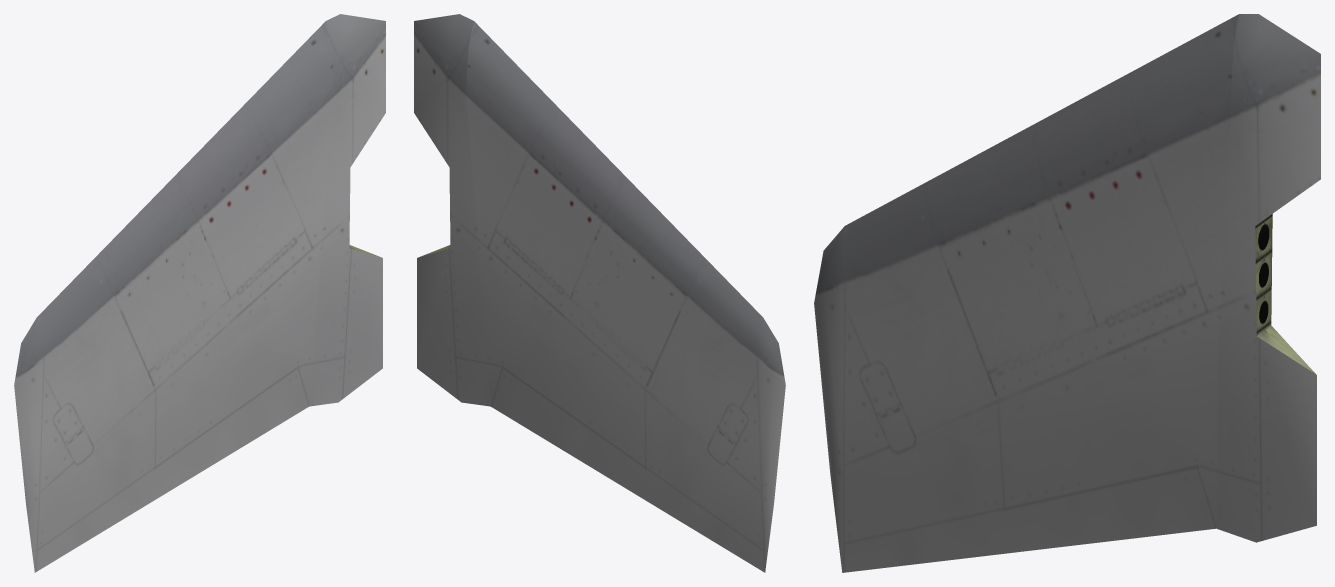
The model's file is winglet.DAE.
3 views of the same model, side by side, from view 1: azimuth 30°, elevation 25°; view 2: azimuth 150°, elevation 25°; view 3: azimuth 330°, elevation 25° (orthographic). The views are drawn at different scales.
Parts seen in each view (by area): view 1: obj_ctrlSrf-Pivot, obj_base-Pivot; view 2: obj_ctrlSrf-Pivot, obj_base-Pivot; view 3: obj_ctrlSrf-Pivot, obj_base-Pivot.
Part boxes in pixels (x1,y1,x2,y2): obj_ctrlSrf-Pivot: (14, 21, 333, 572); obj_base-Pivot: (309, 14, 385, 406); obj_ctrlSrf-Pivot: (466, 21, 785, 572); obj_base-Pivot: (414, 14, 490, 406); obj_ctrlSrf-Pivot: (814, 14, 1238, 572); obj_base-Pivot: (1216, 14, 1320, 542).
Size of what is drawn, in the model's own units: 1.3 by 1.62 by 0.085.
